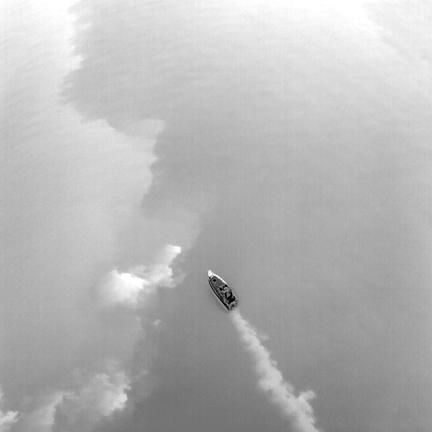flukeprints: (105, 269, 151, 305), (99, 383, 128, 415)
